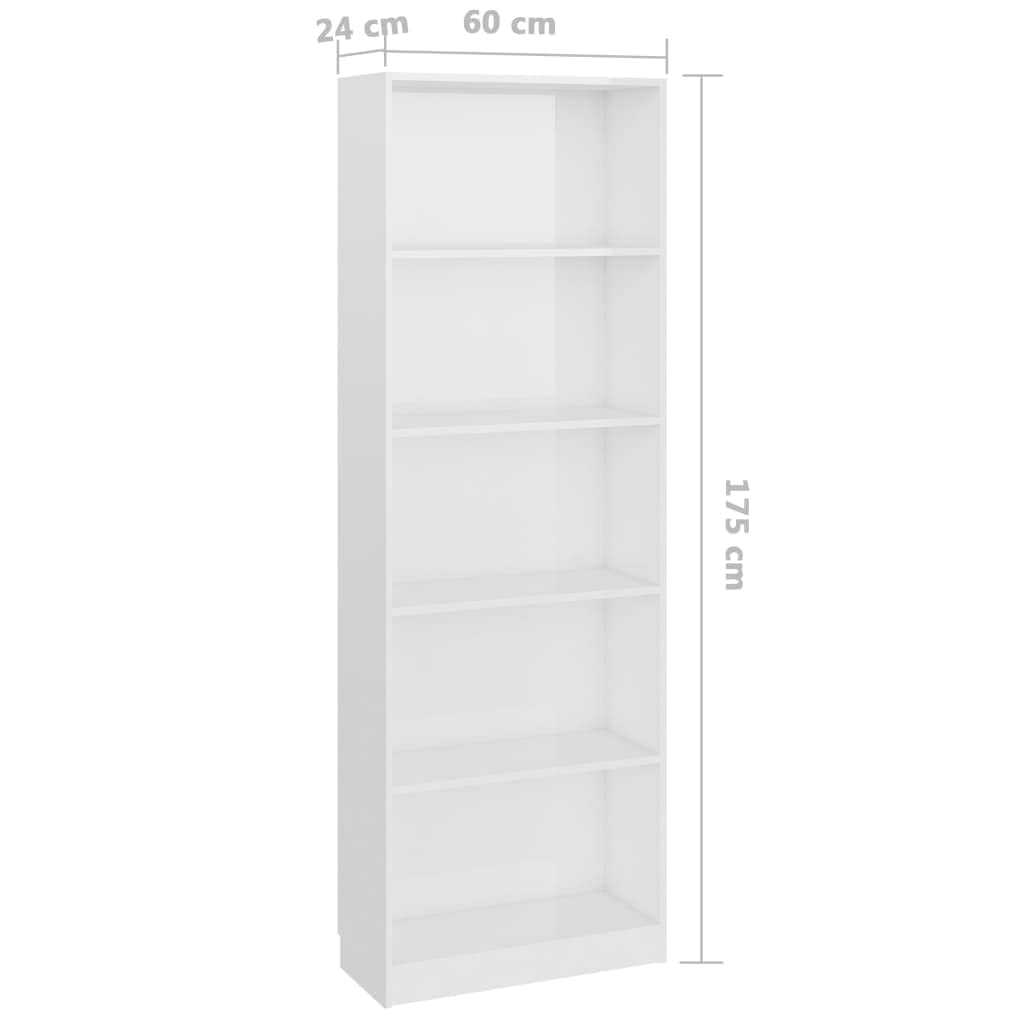175: (725, 480, 750, 534)
cm: (725, 546, 743, 590)
